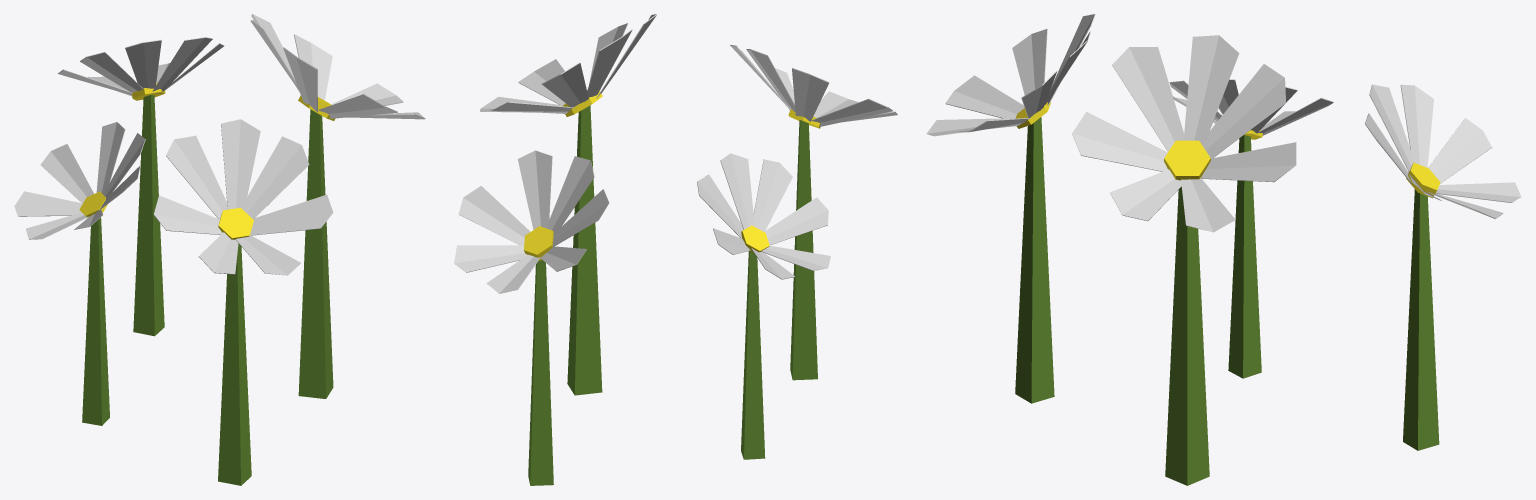
Rendered from Daisy.glb.
3 views of the same model, side by side, from view 1: azimuth 30°, elevation 25°; view 2: azimuth 150°, elevation 25°; view 3: azimuth 270°, elevation 25° (orthographic). The views are drawn at different scales.
Parts seen in each view (by area): view 1: Daisys; view 2: Daisys; view 3: Daisys.
Boxes of the visible parts, bbox=[...] form: Daisys: bbox=[14, 14, 425, 485]; Daisys: bbox=[454, 14, 897, 485]; Daisys: bbox=[926, 14, 1521, 485].
Size of the model in its own units: 1.17 by 1.17 by 1.53.
